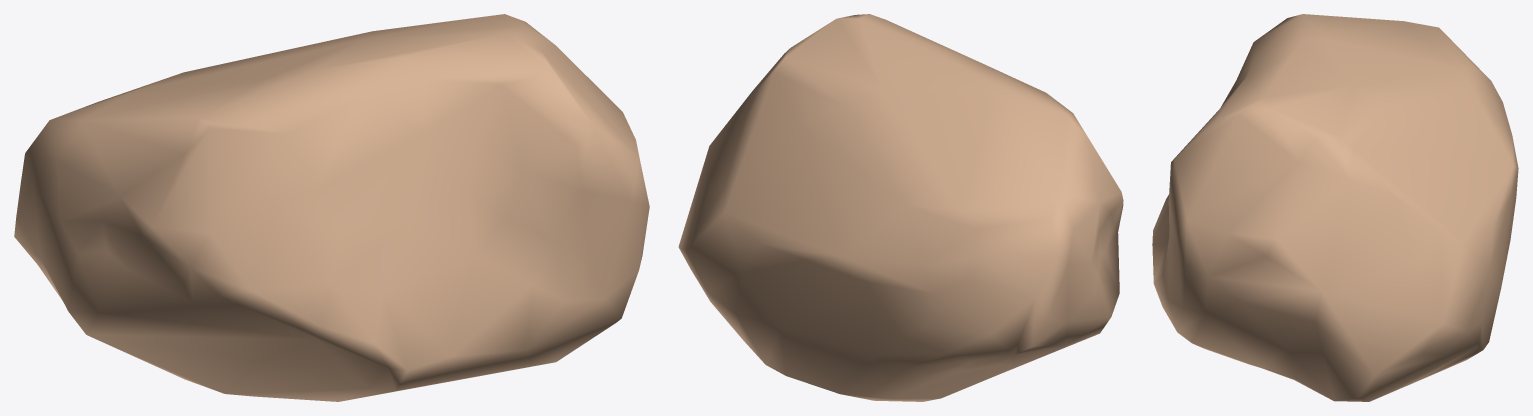
File: Rock_3c.gltf
3 renders of one model, left to right at view 1: azimuth 30°, elevation 25°; view 2: azimuth 150°, elevation 25°; view 3: azimuth 270°, elevation 25°, orthographic. The views are drawn at different scales.
Parts seen in each view (by area): view 1: Rock_3c; view 2: Rock_3c; view 3: Rock_3c.
Part boxes in pixels (x1,y1,x2,y2): Rock_3c: (14, 14, 649, 401); Rock_3c: (678, 14, 1123, 401); Rock_3c: (1152, 14, 1518, 401).
Bounding box in the file's own units: 41.76 × 27.05 × 31.07.
1 material, 1 textured.
